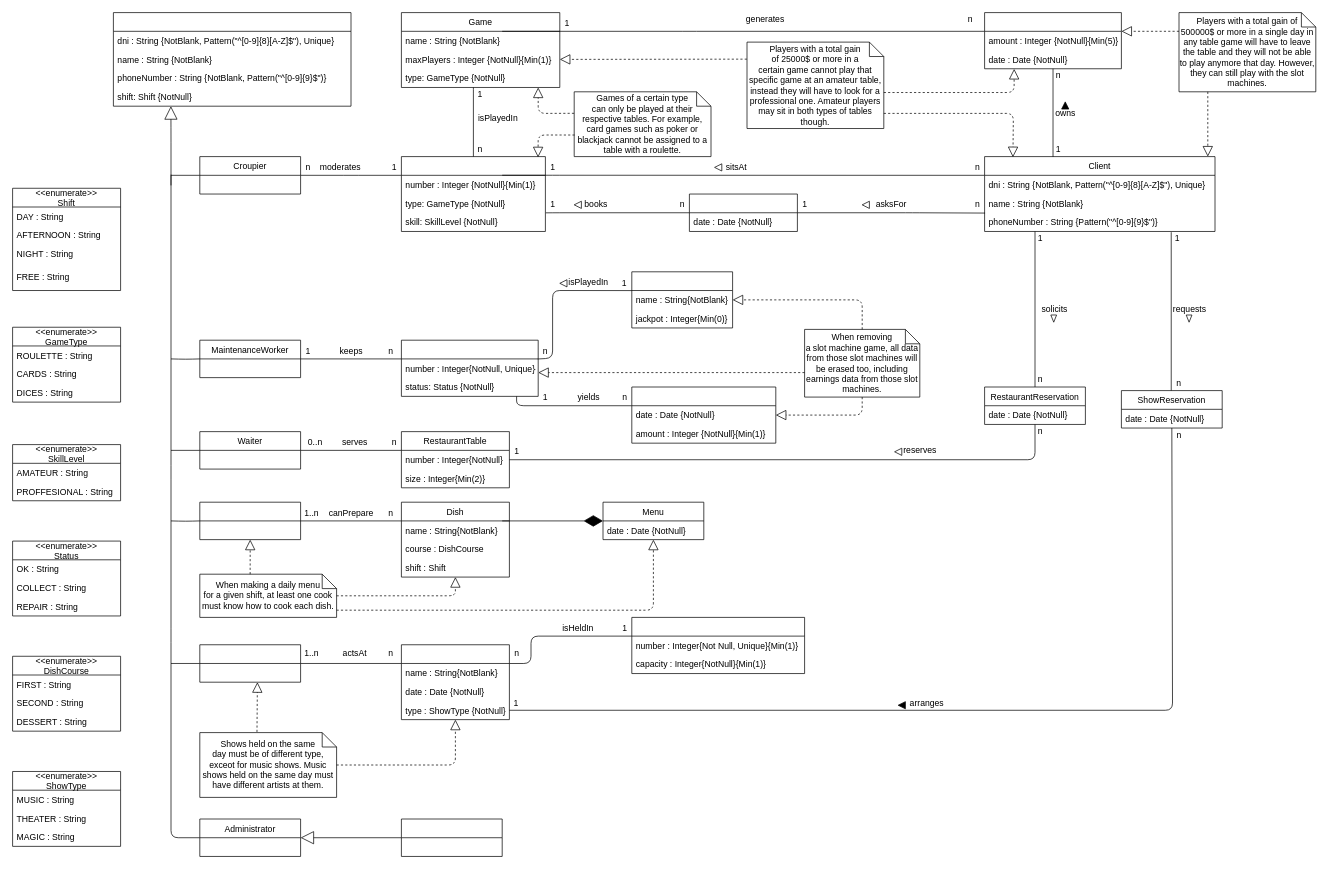
Some shapes in this 1328 by 869 pixel diagram are drawn without their labels. Each missing label, with the box of its shape:
Artist: (199, 644, 301, 682)
CasinoReservation: (689, 193, 797, 231)
CasinoTable: (401, 156, 545, 231)
Chef: (401, 818, 502, 856)
ClientGain: (984, 12, 1121, 69)
Cook: (199, 501, 301, 540)
Employee: (113, 12, 351, 106)
Event: (401, 644, 509, 720)
Slot Game: (631, 271, 733, 328)
Slot machine: (401, 339, 538, 396)
SlotMachineGain: (631, 386, 776, 443)
Stage: (631, 617, 805, 674)
